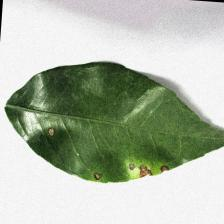canker: (125, 154, 172, 188)
